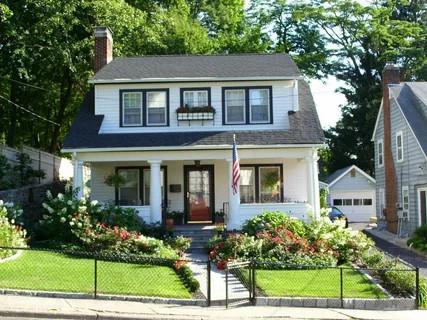private_hause: (59, 37, 322, 221)
